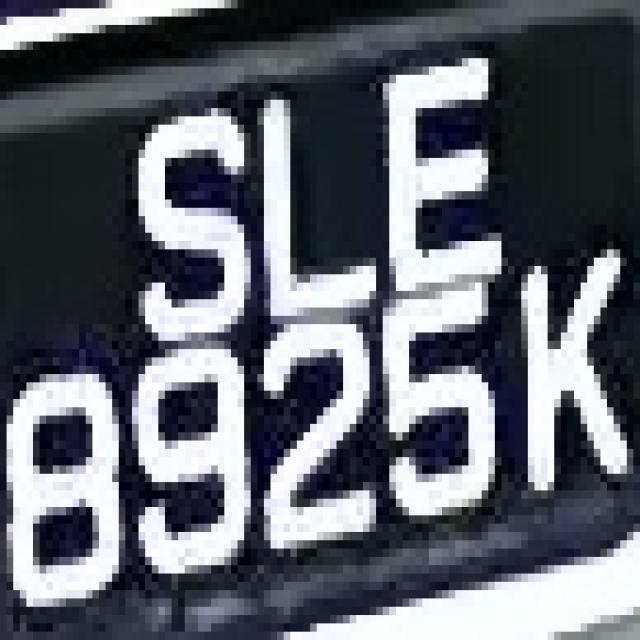2: (251, 299, 389, 549)
5: (370, 274, 508, 540)
8: (7, 349, 132, 623)
9: (118, 332, 270, 582)
E: (370, 50, 508, 307)
K: (488, 233, 620, 515)
L: (238, 75, 376, 324)
S: (125, 83, 251, 358)
